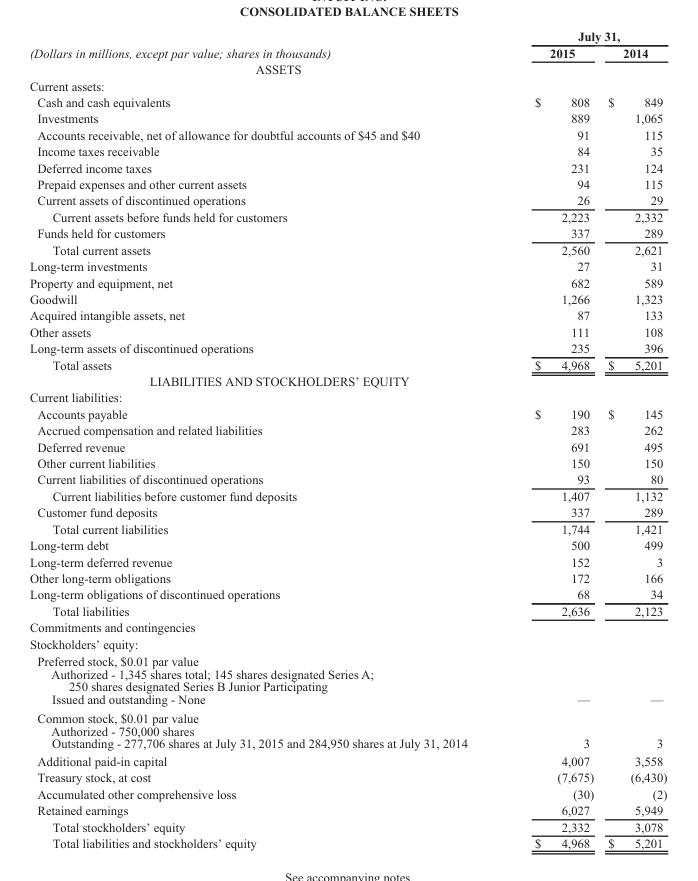table: (28, 28, 666, 849)
table column: (28, 28, 500, 849), (500, 28, 600, 849), (600, 28, 666, 849)
table column header: (28, 28, 666, 60)
table projected row header: (28, 60, 666, 77), (28, 388, 666, 405), (28, 618, 666, 635), (28, 635, 666, 652), (28, 77, 666, 93), (28, 372, 666, 388)
table row: (28, 652, 666, 708), (28, 708, 666, 751), (28, 60, 666, 77), (28, 109, 666, 126), (28, 142, 666, 159), (28, 191, 666, 208), (28, 224, 666, 241), (28, 257, 666, 274), (28, 306, 666, 323), (28, 339, 666, 356), (28, 388, 666, 405), (28, 421, 666, 438), (28, 454, 666, 471), (28, 503, 666, 520), (28, 536, 666, 553), (28, 585, 666, 602), (28, 618, 666, 635), (28, 635, 666, 652), (28, 751, 666, 768), (28, 768, 666, 785), (28, 801, 666, 818), (28, 28, 666, 44), (28, 44, 666, 60), (28, 77, 666, 93), (28, 93, 666, 109), (28, 126, 666, 142), (28, 159, 666, 175), (28, 175, 666, 191), (28, 208, 666, 224), (28, 241, 666, 257), (28, 274, 666, 290), (28, 290, 666, 306), (28, 323, 666, 339), (28, 356, 666, 372), (28, 372, 666, 388), (28, 405, 666, 421), (28, 438, 666, 454), (28, 471, 666, 487), (28, 487, 666, 503), (28, 520, 666, 536), (28, 553, 666, 569), (28, 569, 666, 585), (28, 602, 666, 618), (28, 785, 666, 801), (28, 818, 666, 834), (28, 834, 666, 849)
table spanning cell: (28, 28, 500, 60), (500, 28, 666, 44)
